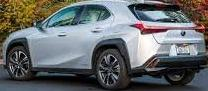Crossovers: (4, 3, 208, 90)
